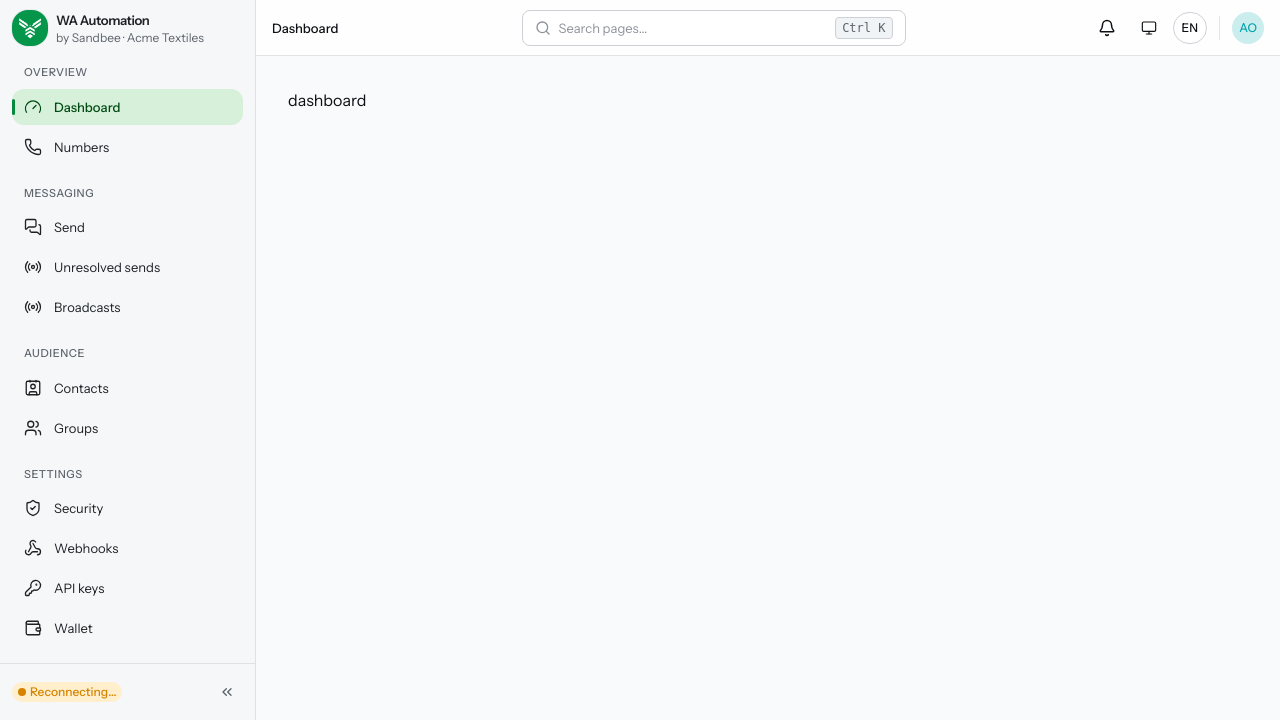
Test case: AppShell › ctrl_k_opens_the_palette_and_enter_navigates
Check: the text "dashboard" is shown, box 288,90 -> 366,110
Press k
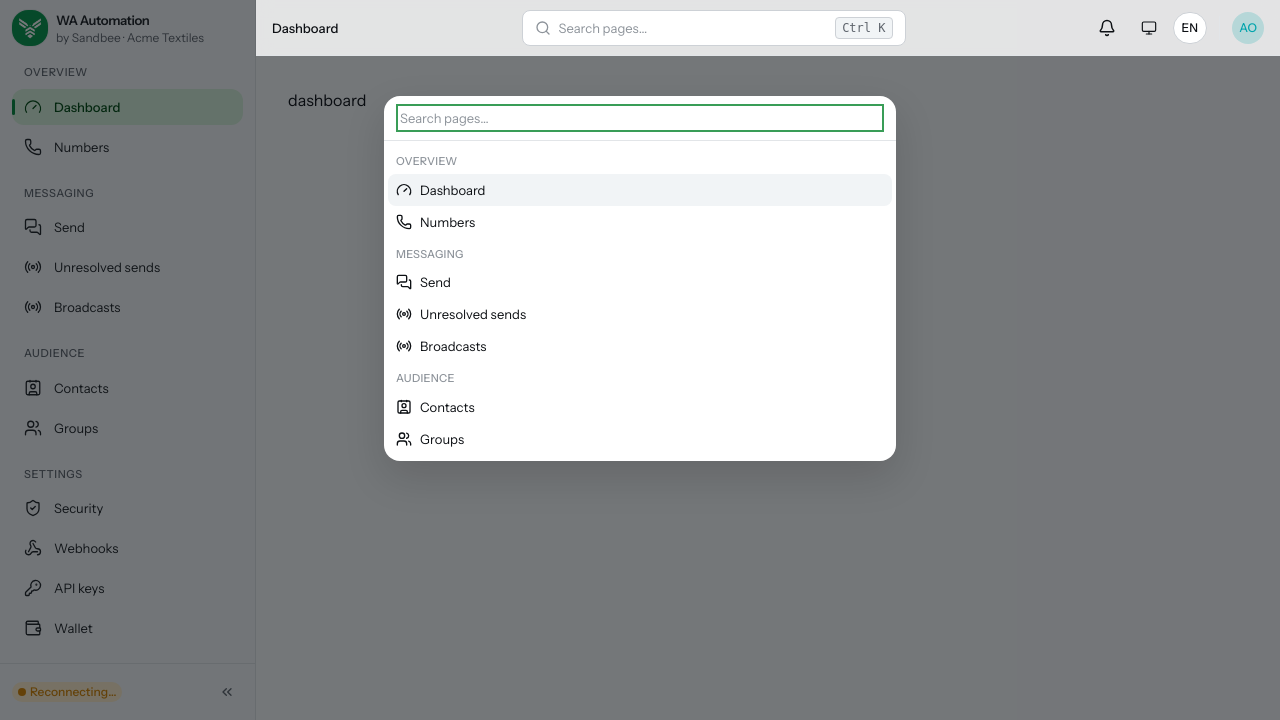
In the dropdown: (640, 118) 400,108 -> 880,128, type "Numbers"
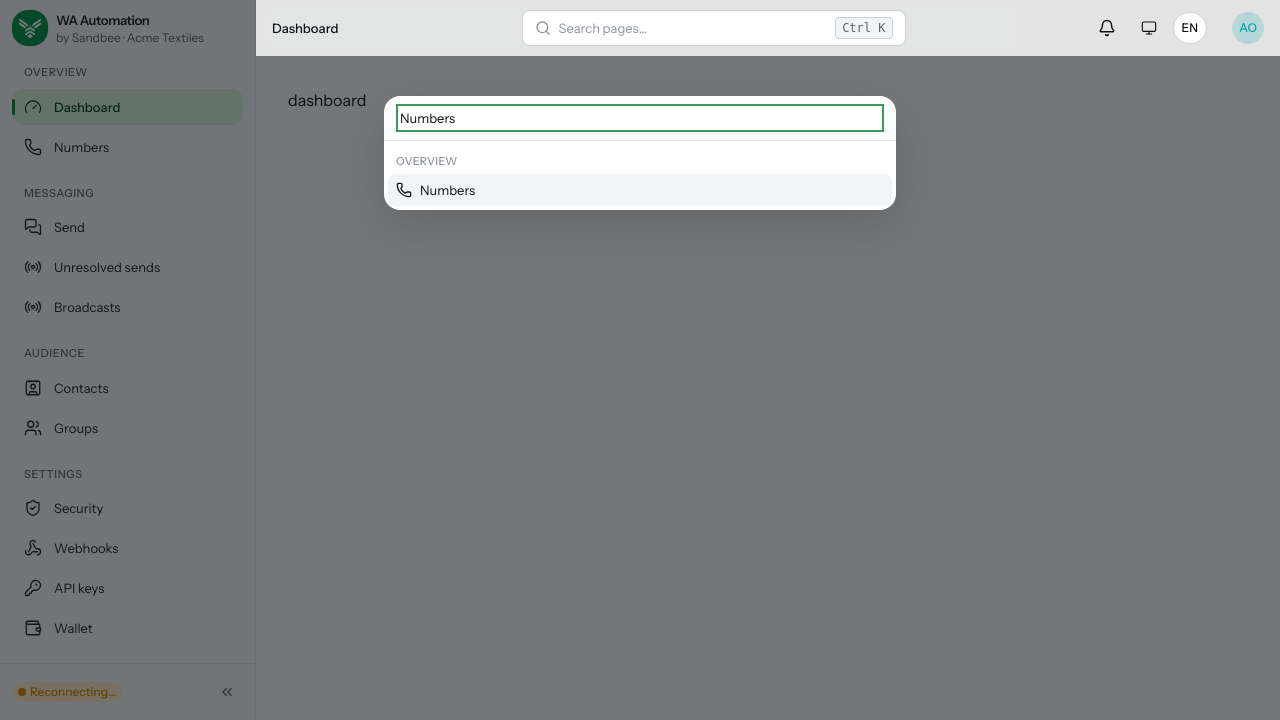
Press Enter in the dropdown, box 400,108 -> 880,128
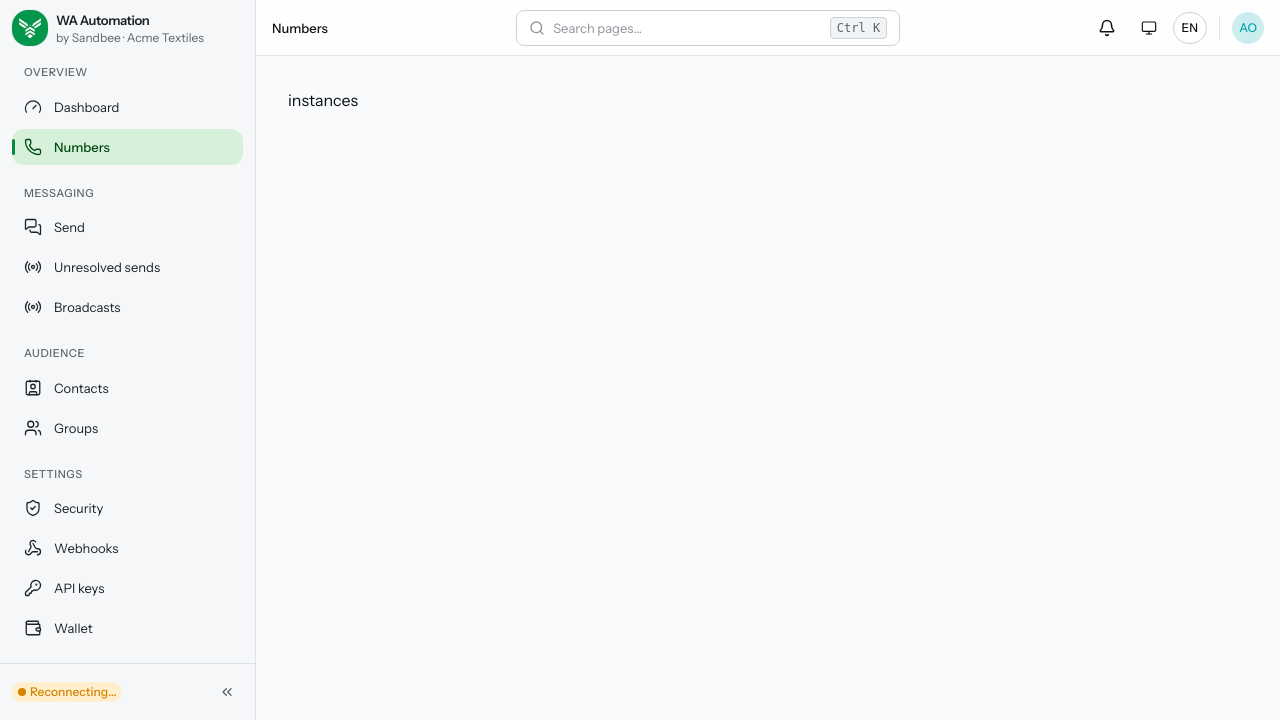
Check: the text "instances" is shown, box 288,90 -> 358,110
